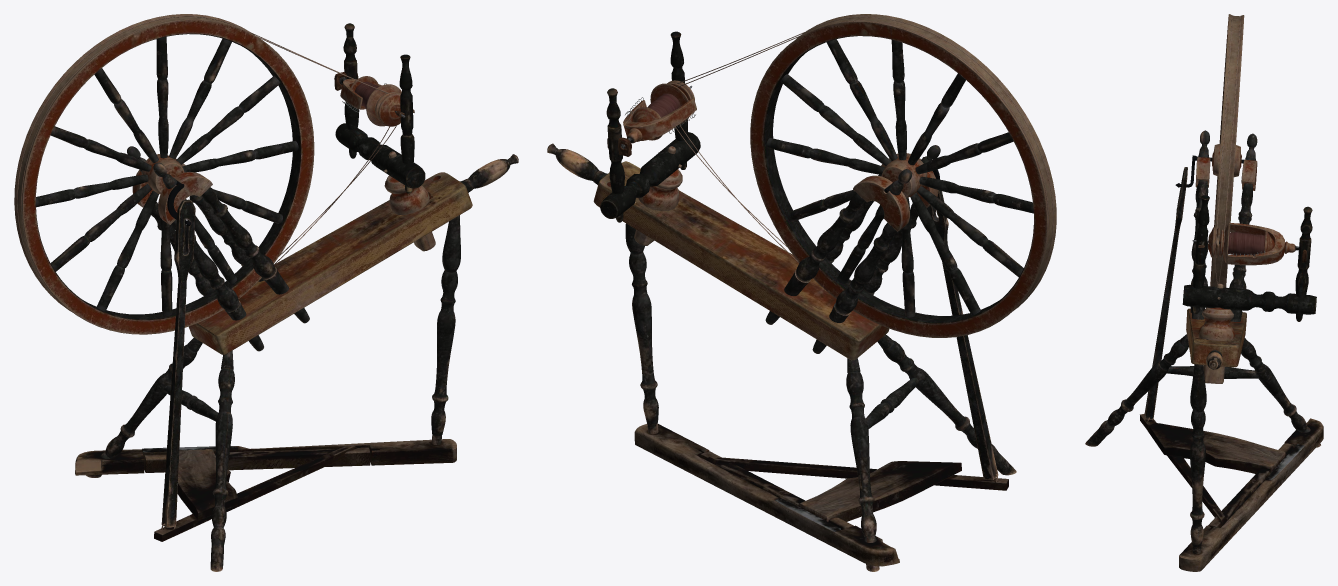
File: spinnrad.glb
The picture shows the model from 3 angles, left to right: view 1: azimuth 30°, elevation 25°; view 2: azimuth 150°, elevation 25°; view 3: azimuth 270°, elevation 25°; orthographic projection. The views are drawn at different scales.
Parts seen in each view (by area): view 1: spinning_wheel_01; view 2: spinning_wheel_01; view 3: spinning_wheel_01.
Part boxes in pixels (bbox=[...]): spinning_wheel_01: bbox=[14, 14, 518, 571]; spinning_wheel_01: bbox=[547, 14, 1056, 571]; spinning_wheel_01: bbox=[1085, 14, 1323, 571].
Bounding box in the file's own units: 1 × 0.9427 × 0.4775.
1 material, 1 textured.
